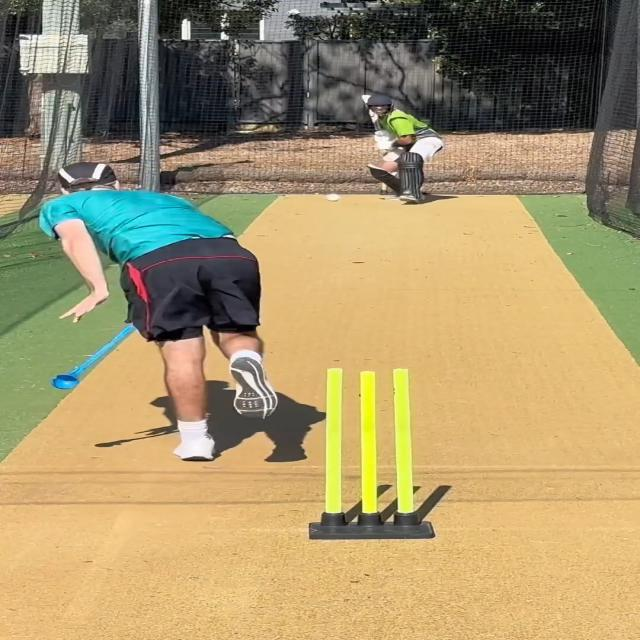ball: (325, 192, 342, 203)
stump: (305, 365, 435, 540)
